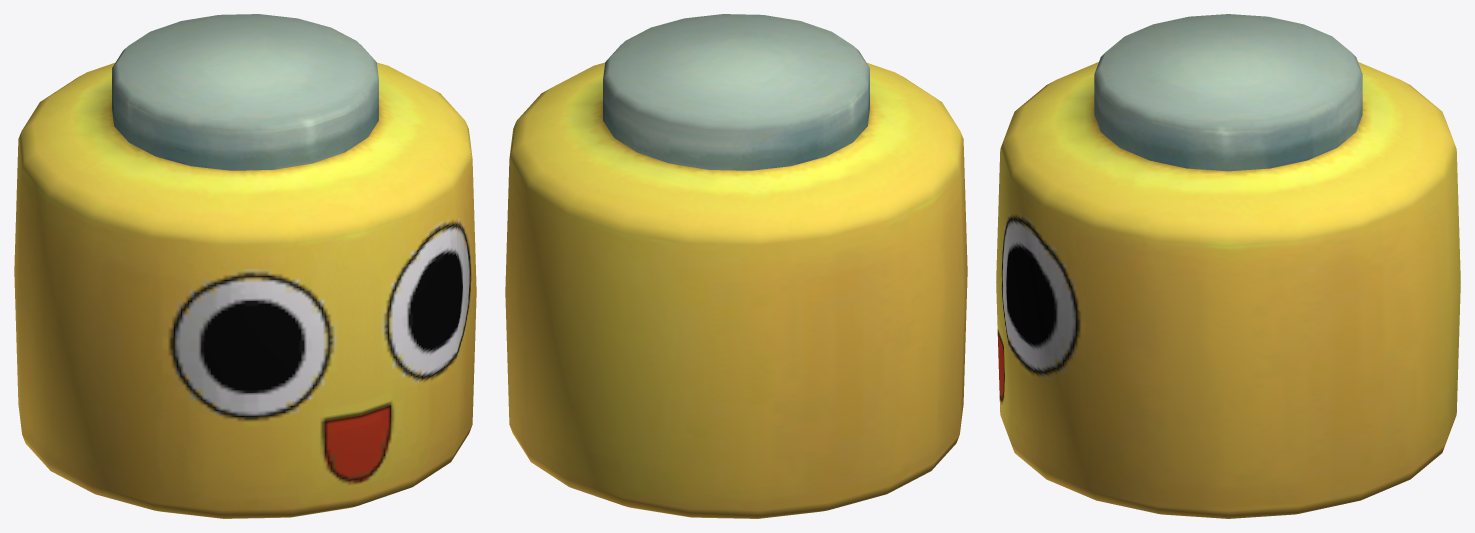
The model's file is Servbot.fbx.
The picture shows the model from 3 angles, left to right: view 1: azimuth 30°, elevation 25°; view 2: azimuth 150°, elevation 25°; view 3: azimuth 270°, elevation 25°; orthographic projection.
Visible parts, largest first — view 1: rdmobj01_model\om\om0; view 2: rdmobj01_model\om\om0; view 3: rdmobj01_model\om\om0.
Part boxes in pixels (left/top/right/bottom): rdmobj01_model\om\om0: left=14, top=14, right=476, bottom=518; rdmobj01_model\om\om0: left=505, top=14, right=967, bottom=518; rdmobj01_model\om\om0: left=996, top=14, right=1460, bottom=518.
Size of the model in its own units: 5.09 by 4.45 by 5.09.
1 material, 1 textured.
